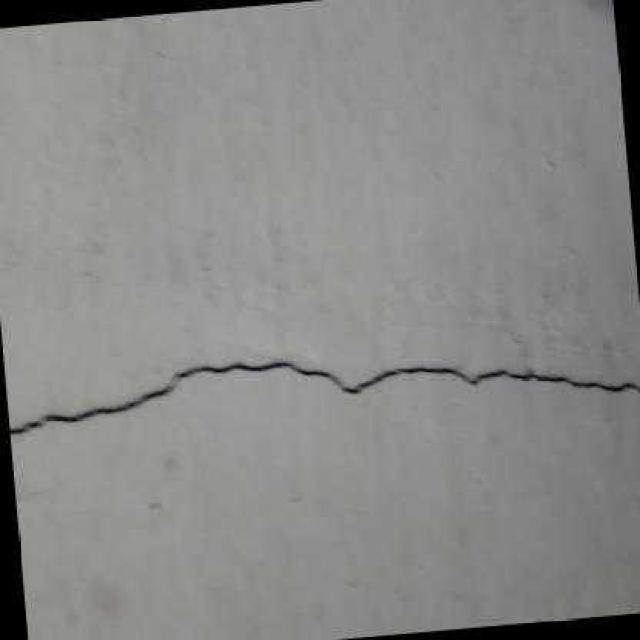D00: (8, 359, 640, 436)
